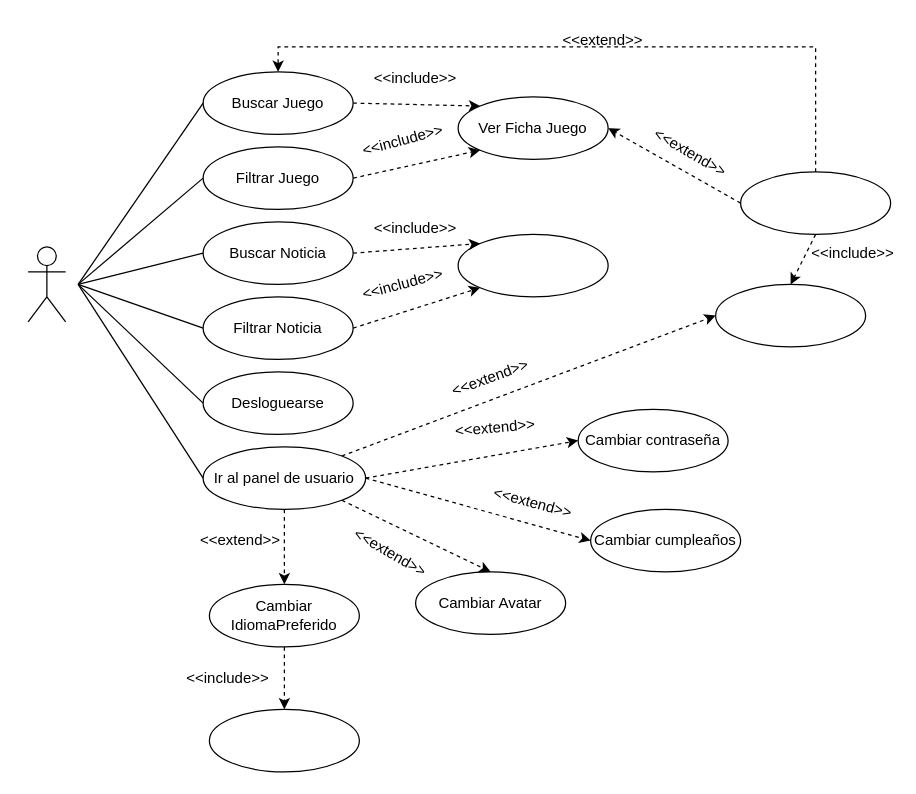
The diagram is 916 pixels wide and 794 high, and some of its shapes have lost their labels. Each missing label, with the centre of its shape:
Añadir Favorito: the point at 815,202
Cambiar Idioma página: the point at 283,740
Eliminar Favorito: the point at 790,315
Leer Noticia: the point at 532,265
Usuario: the point at 46,284
